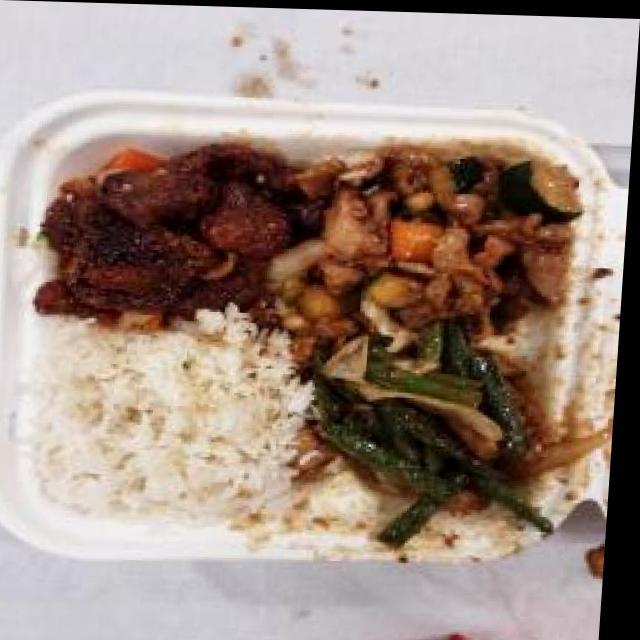Beijing Beef: (33, 126, 318, 331)
Kung Pao Chicken: (306, 133, 589, 342)
String Bean Chicken Breast: (312, 336, 568, 545)
White Steamed Rice: (28, 329, 313, 529)
